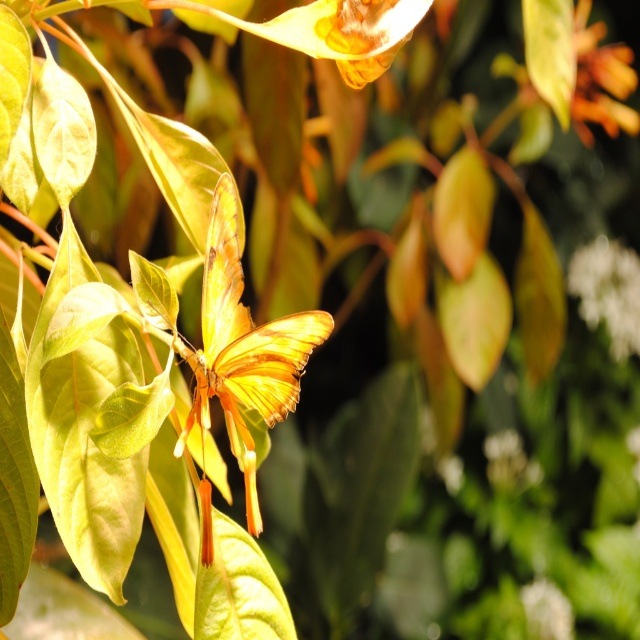Butterfly: (141, 148, 343, 532)
